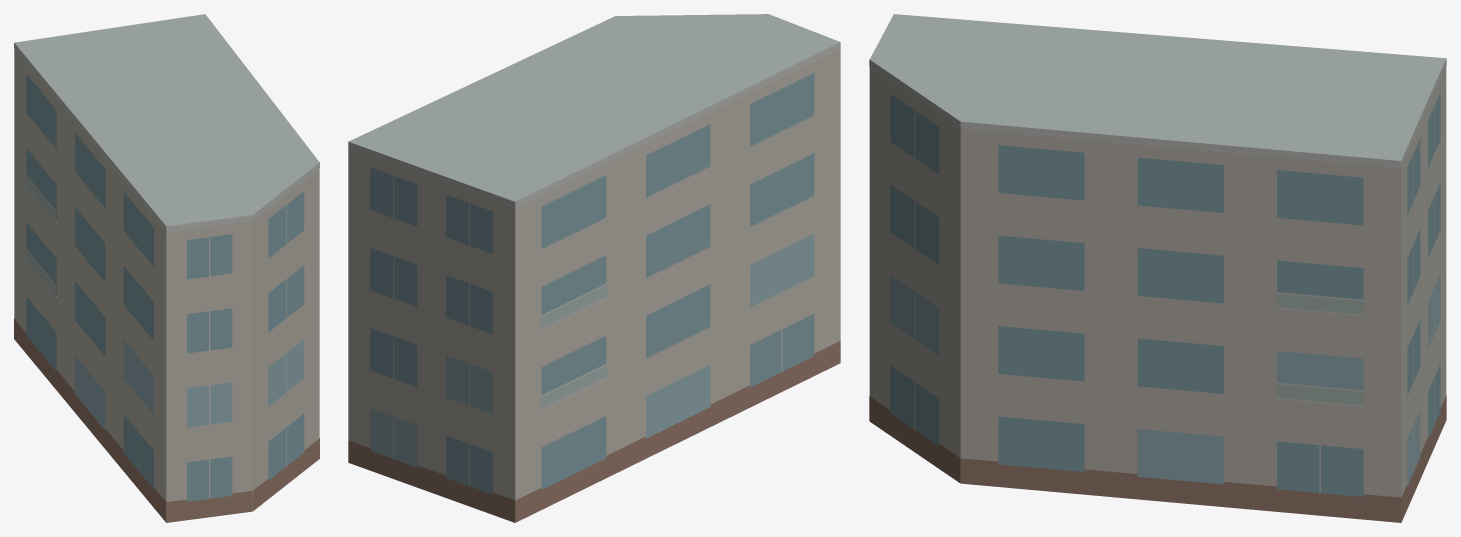
The model's file is survey-upis-33039844.glb.
3 views of the same model, side by side, from view 1: azimuth 30°, elevation 25°; view 2: azimuth 150°, elevation 25°; view 3: azimuth 270°, elevation 25° (orthographic). The views are drawn at different scales.
Visible parts, largest first — view 1: survey-upis-33039844.tmp; view 2: survey-upis-33039844.tmp; view 3: survey-upis-33039844.tmp.
Boxes of the visible parts, left/top/right/bottom form: survey-upis-33039844.tmp: left=14, top=14, right=319, bottom=522; survey-upis-33039844.tmp: left=348, top=14, right=840, bottom=522; survey-upis-33039844.tmp: left=869, top=14, right=1446, bottom=522.
Size of the model in its own units: 10.64 by 12.2 by 17.63.
